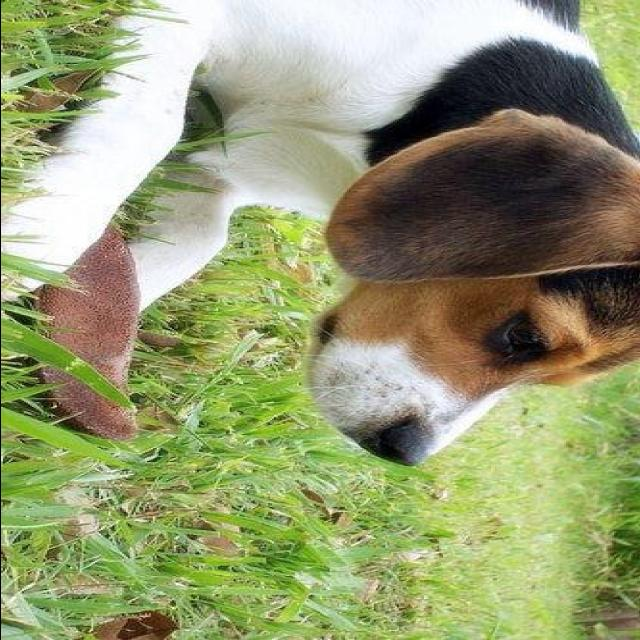beagle: (4, 0, 638, 468)
